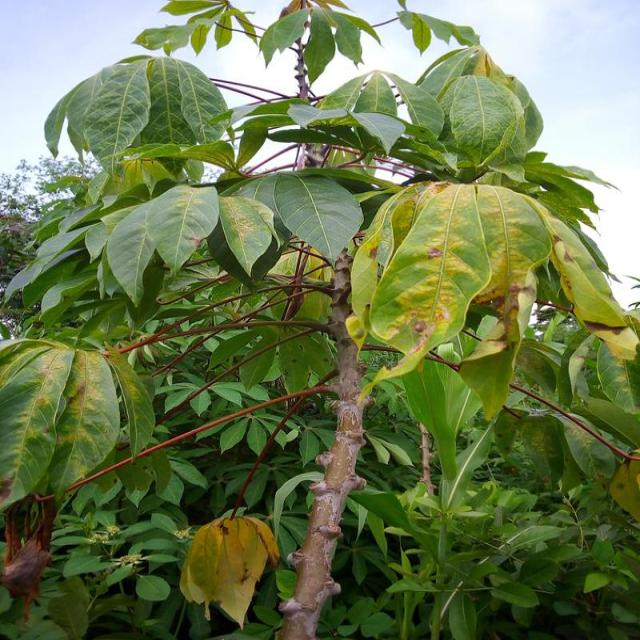cassava leaf: (0, 336, 121, 512), (105, 182, 219, 308), (178, 510, 280, 630), (205, 193, 282, 288)
